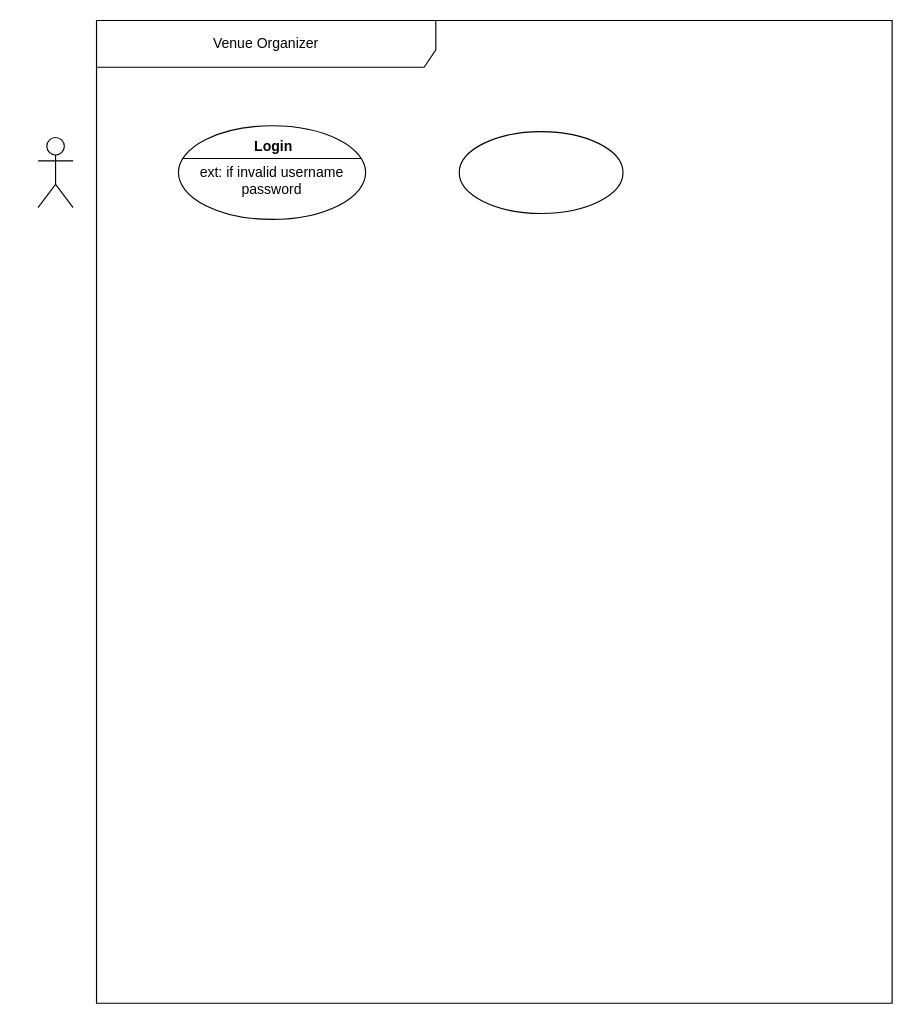
Some shapes in this 913 by 1024 pixel diagram are drawn without their labels. Here are the shapes that lost their labels. From the top down, the centre of each, then its label:
At (x=55, y=172): "Registered User".
At (x=540, y=172): "Ask to re login".
